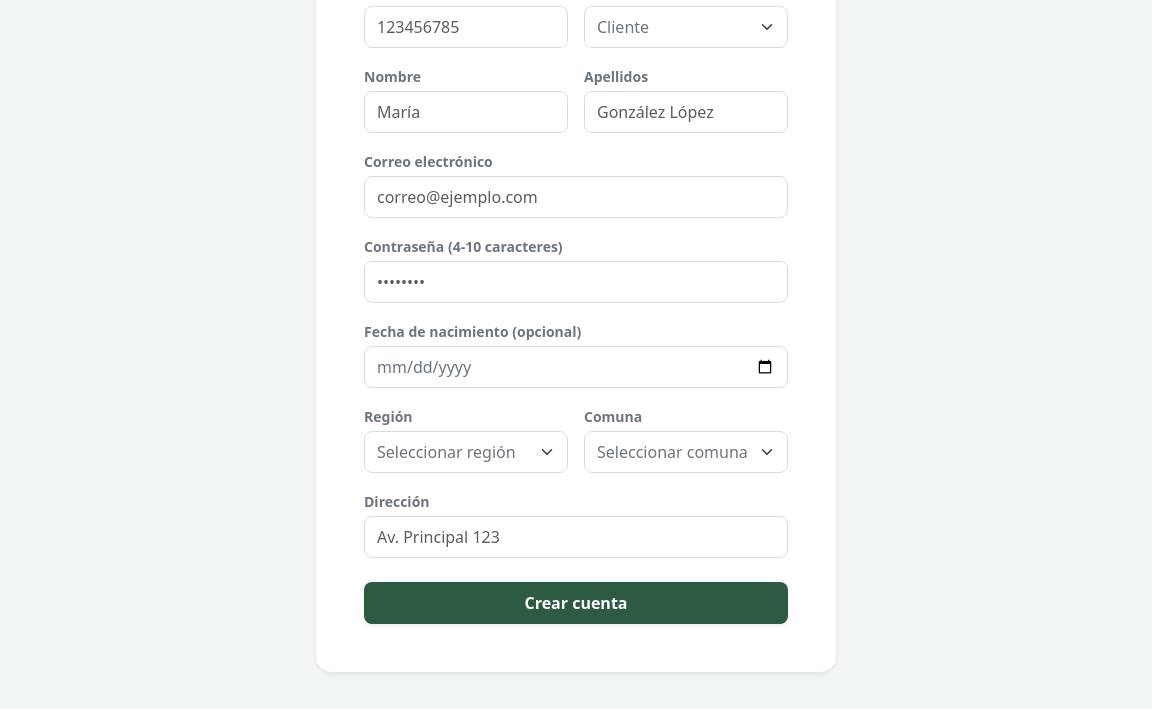
Registro muestra advertencias cuando se intenta enviar el formulario vacio
(page scrolled)
Step 1. Click the button "Crear cuenta" → (576, 603), box [364,582,788,624]
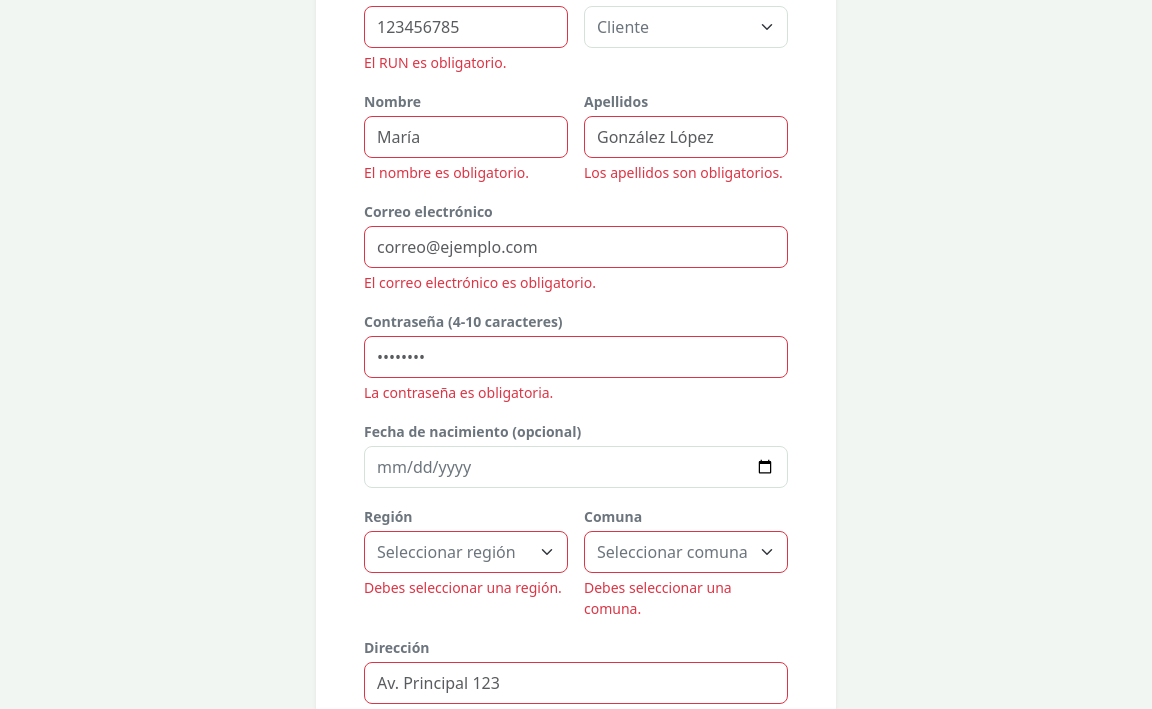
Expected: the text "El RUN es obligatorio." is shown, [364,53,506,72]
Expected: the text "El nombre es obligatorio." is shown, [364,163,529,182]
Expected: the text "El correo electrónico es obligatorio." is shown, [364,273,596,292]
